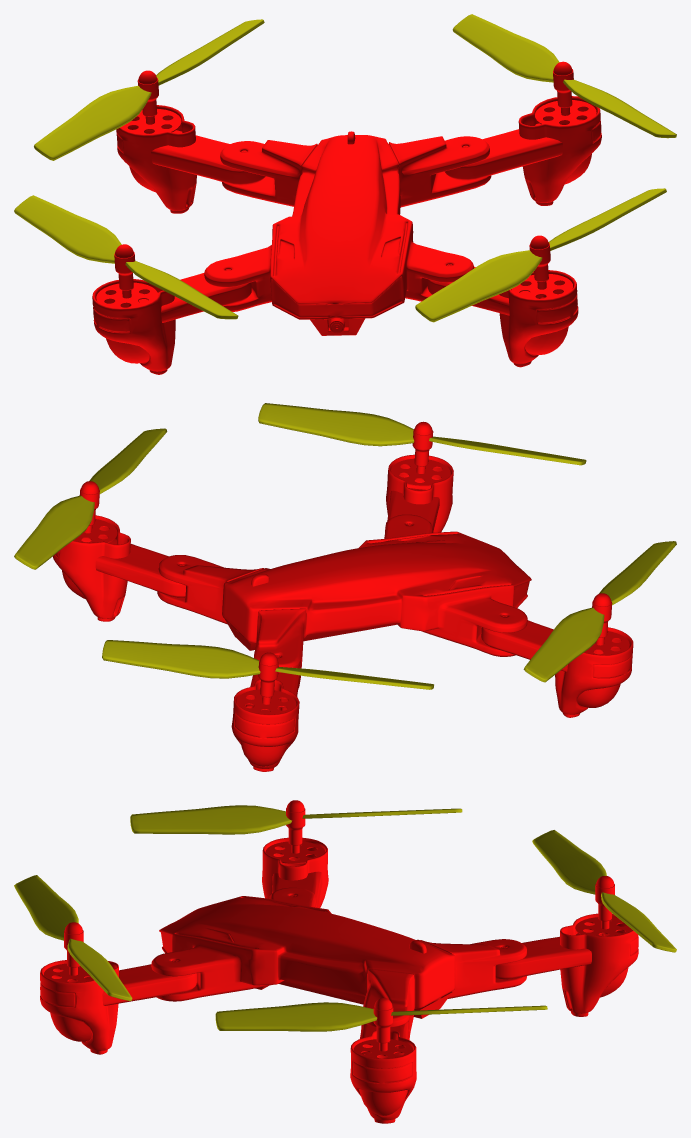
File: demo6.obj
The picture shows the model from 3 angles, top to bottom: view 1: azimuth 30°, elevation 25°; view 2: azimuth 150°, elevation 25°; view 3: azimuth 270°, elevation 25°; orthographic projection. The views are drawn at different scales.
Visible parts, largest first — view 1: Obj3d66_1276648_44_547, Obj3d66_1276648_63_703, Obj3d66_1276648_80_94, Obj3d66_1276648_78_945, Obj3d66_1276648_74_741, Obj3d66_1276648_52_471, Obj3d66_1276648_76_362, Obj3d66_1276648_73_8, Obj3d66_1276648_77_860, Obj3d66_1276648_60_302, Obj3d66_1276648_59_645, Obj3d66_1276648_70_661 (+15 smaller); view 2: Obj3d66_1276648_44_547, Obj3d66_1276648_82_509, Obj3d66_1276648_75_883, Obj3d66_1276648_63_703, Obj3d66_1276648_80_94, Obj3d66_1276648_73_8, Obj3d66_1276648_77_860, Obj3d66_1276648_78_945, Obj3d66_1276648_60_302, Obj3d66_1276648_52_471, Obj3d66_1276648_70_661, Obj3d66_1276648_72_557 (+13 smaller); view 3: Obj3d66_1276648_44_547, Obj3d66_1276648_78_945, Obj3d66_1276648_70_661, Obj3d66_1276648_72_557, Obj3d66_1276648_52_471, Obj3d66_1276648_63_703, Obj3d66_1276648_76_362, Obj3d66_1276648_59_645, Obj3d66_1276648_74_741, Obj3d66_1276648_51_655, Obj3d66_1276648_80_94, Obj3d66_1276648_75_883 (+13 smaller).
Boxes of the visible parts, box(x1,y1,x2,y2) form: Obj3d66_1276648_44_547: box(204, 135, 491, 319); Obj3d66_1276648_63_703: box(518, 96, 601, 205); Obj3d66_1276648_80_94: box(92, 279, 175, 374); Obj3d66_1276648_78_945: box(116, 105, 196, 213); Obj3d66_1276648_74_741: box(415, 250, 542, 322); Obj3d66_1276648_52_471: box(499, 270, 578, 367); Obj3d66_1276648_76_362: box(34, 85, 151, 160); Obj3d66_1276648_73_8: box(14, 195, 121, 263); Obj3d66_1276648_77_860: box(452, 14, 559, 82); Obj3d66_1276648_60_302: box(444, 123, 562, 180); Obj3d66_1276648_59_645: box(151, 130, 265, 185); Obj3d66_1276648_70_661: box(563, 79, 676, 138); Obj3d66_1276648_44_547: box(157, 514, 531, 687); Obj3d66_1276648_82_509: box(102, 640, 260, 678); Obj3d66_1276648_75_883: box(258, 403, 414, 446); Obj3d66_1276648_63_703: box(53, 515, 130, 621); Obj3d66_1276648_80_94: box(555, 627, 633, 717); Obj3d66_1276648_73_8: box(523, 607, 604, 682); Obj3d66_1276648_77_860: box(14, 495, 94, 569); Obj3d66_1276648_78_945: box(231, 679, 299, 771); Obj3d66_1276648_60_302: box(95, 538, 185, 597); Obj3d66_1276648_52_471: box(386, 454, 453, 532); Obj3d66_1276648_70_661: box(89, 428, 167, 493); Obj3d66_1276648_72_557: box(599, 541, 676, 605); Obj3d66_1276648_44_547: box(151, 887, 526, 1040); Obj3d66_1276648_78_945: box(560, 913, 638, 1016); Obj3d66_1276648_70_661: box(215, 1002, 377, 1031); Obj3d66_1276648_72_557: box(130, 805, 291, 834); Obj3d66_1276648_52_471: box(40, 960, 118, 1054); Obj3d66_1276648_63_703: box(350, 1030, 416, 1123); Obj3d66_1276648_76_362: box(532, 830, 606, 894); Obj3d66_1276648_59_645: box(495, 933, 591, 979); Obj3d66_1276648_74_741: box(14, 875, 78, 940); Obj3d66_1276648_51_655: box(84, 964, 196, 1005); Obj3d66_1276648_80_94: box(262, 837, 328, 908); Obj3d66_1276648_75_883: box(67, 938, 132, 1000).
Size of the model in its own units: 184 by 52.49 by 200.
